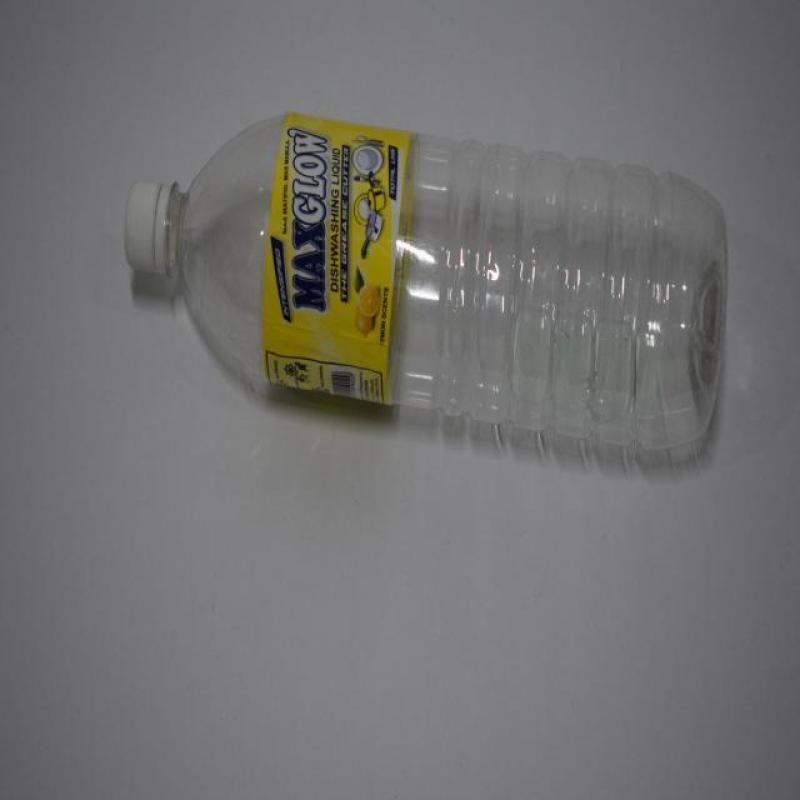botella: (123, 111, 731, 457)
